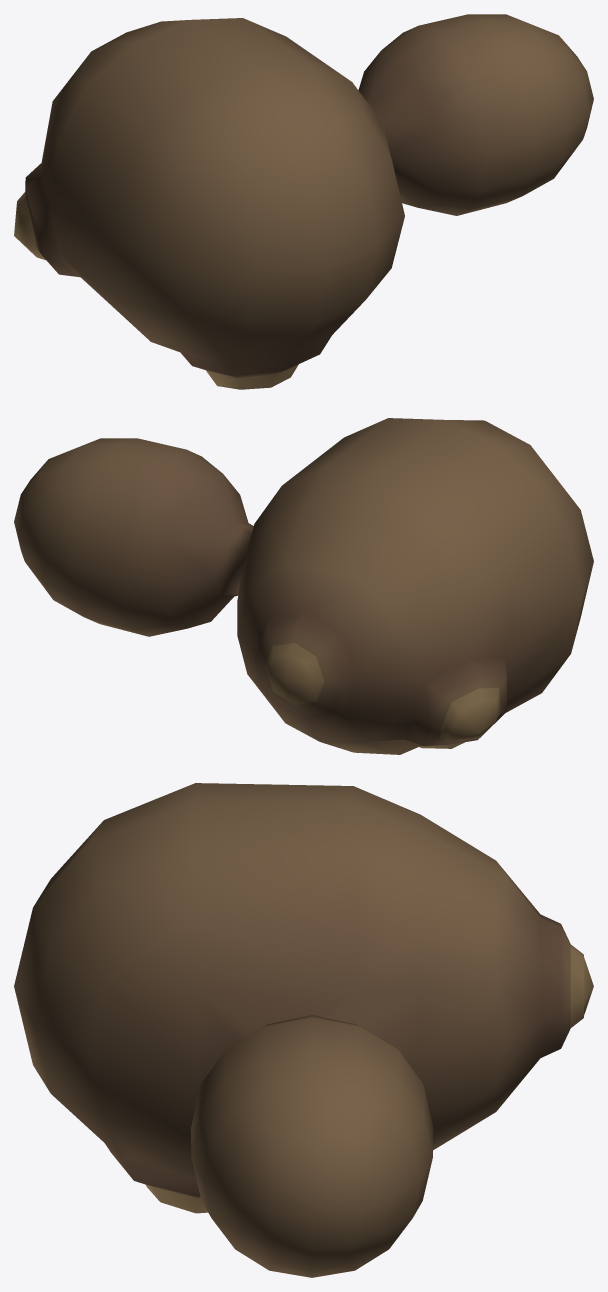
3 renders of one model, top to bottom at view 1: azimuth 30°, elevation 25°; view 2: azimuth 150°, elevation 25°; view 3: azimuth 270°, elevation 25°, orthographic. The views are drawn at different scales.
Visible parts, largest first — view 1: alt1.213; view 2: alt1.213; view 3: alt1.213.
Part boxes in pixels (x1=…): alt1.213: x1=14, y1=14, x2=593, y2=389; alt1.213: x1=14, y1=418, x2=593, y2=754; alt1.213: x1=14, y1=783, x2=593, y2=1277.
Bounding box in the file's own units: 0.5 × 0.2967 × 0.3874.
